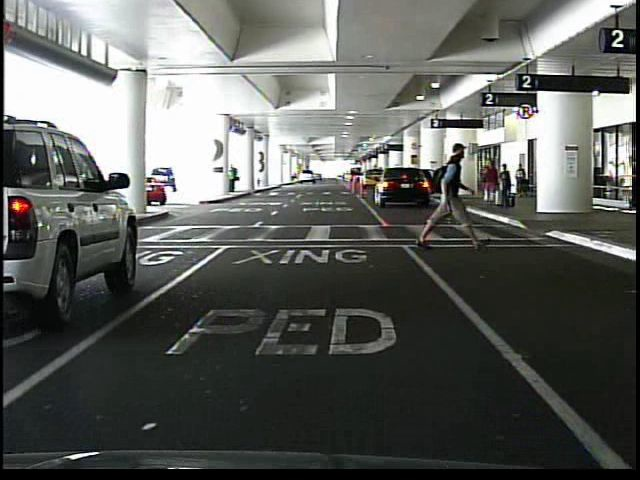person: (418, 142, 494, 251), (477, 158, 500, 204), (500, 162, 516, 207), (515, 162, 526, 195), (228, 164, 239, 194)
